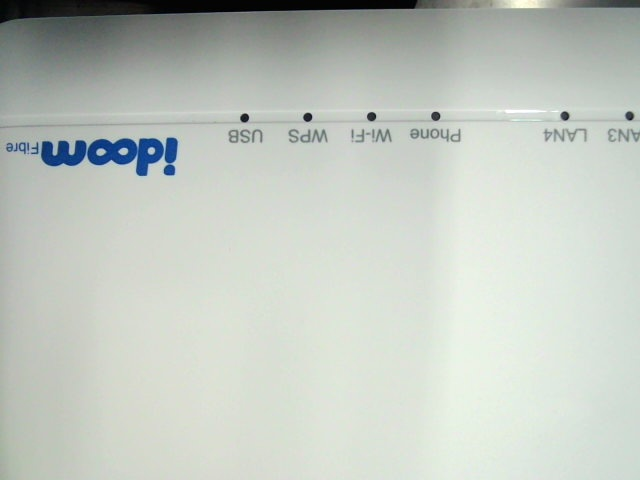BB_idoom: (2, 132, 188, 179)
